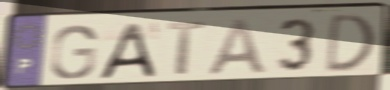3: (275, 16, 317, 73)
A: (205, 17, 270, 77), (95, 20, 158, 81)
D: (323, 11, 378, 75)
G: (48, 23, 99, 82)
T: (165, 19, 207, 77)
